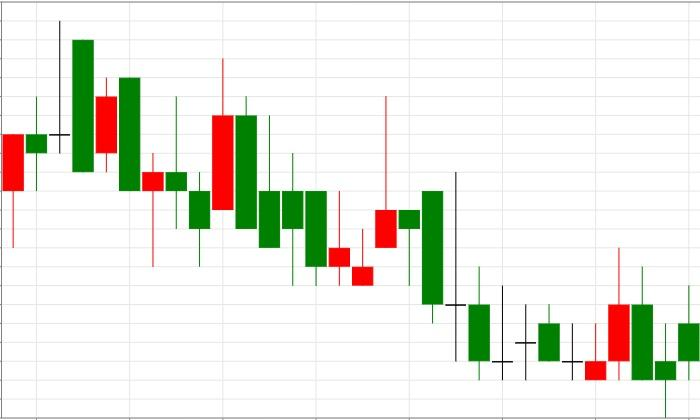bearish_engulfing_fall: (2, 21, 141, 248)
inverse_hammer_rise: (375, 95, 607, 381), (211, 57, 374, 287)
